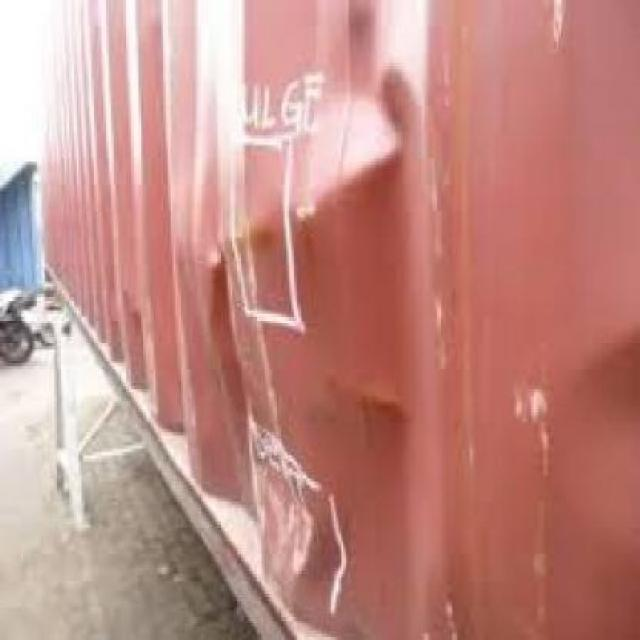dent: (170, 20, 463, 597)
